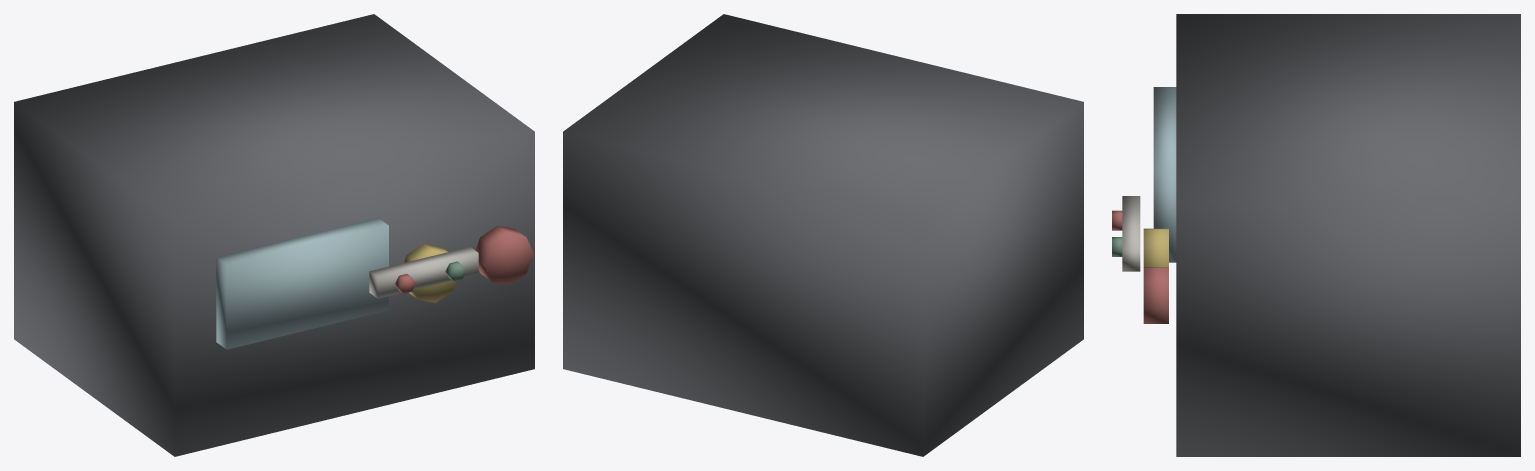
Rendered from component_tester__reinforced.glb.
3 renders of one model, left to right at view 1: azimuth 30°, elevation 25°; view 2: azimuth 150°, elevation 25°; view 3: azimuth 270°, elevation 25°, orthographic. The views are drawn at different scales.
Parts seen in each view (by area): view 1: world; view 2: world; view 3: world.
Boxes of the visible parts, bbox=[...] form: world: bbox=[14, 14, 534, 456]; world: bbox=[563, 14, 1083, 456]; world: bbox=[1112, 14, 1520, 456].
Size of the model in its own units: 0.4532 by 0.2856 by 0.4156.
